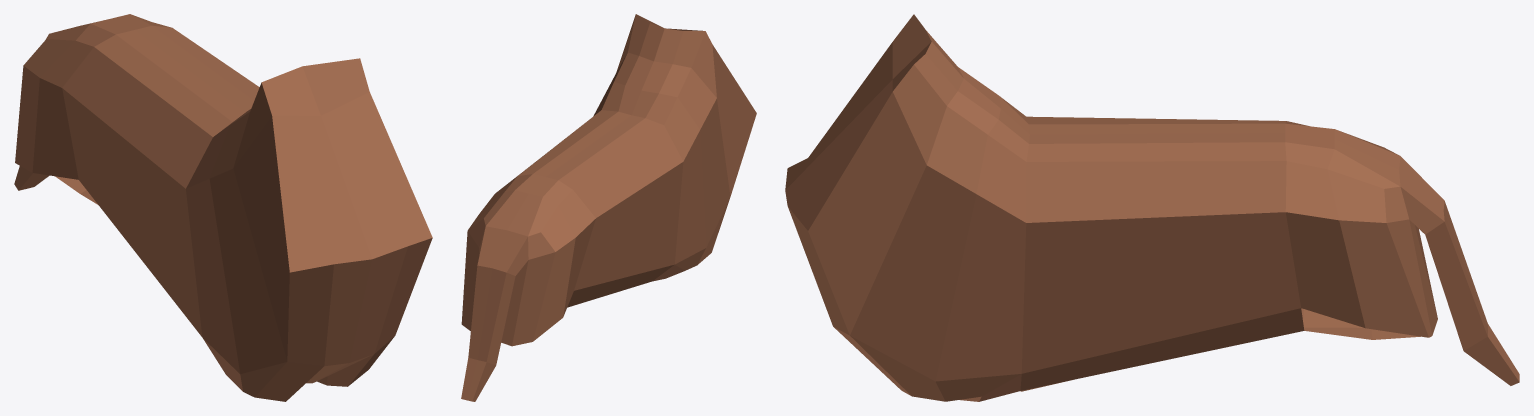
The model's file is Dog_Part2.fbx.
3 renders of one model, left to right at view 1: azimuth 30°, elevation 25°; view 2: azimuth 150°, elevation 25°; view 3: azimuth 270°, elevation 25°, orthographic. The views are drawn at different scales.
Visible parts, largest first — view 1: dog_part2_body; view 2: dog_part2_body; view 3: dog_part2_body.
Part boxes in pixels (x1,y1,x2,y2): dog_part2_body: (14,14,432,401); dog_part2_body: (461,14,756,401); dog_part2_body: (785,14,1519,401).
Bounding box in the file's own units: 73.81 × 166 × 313.
